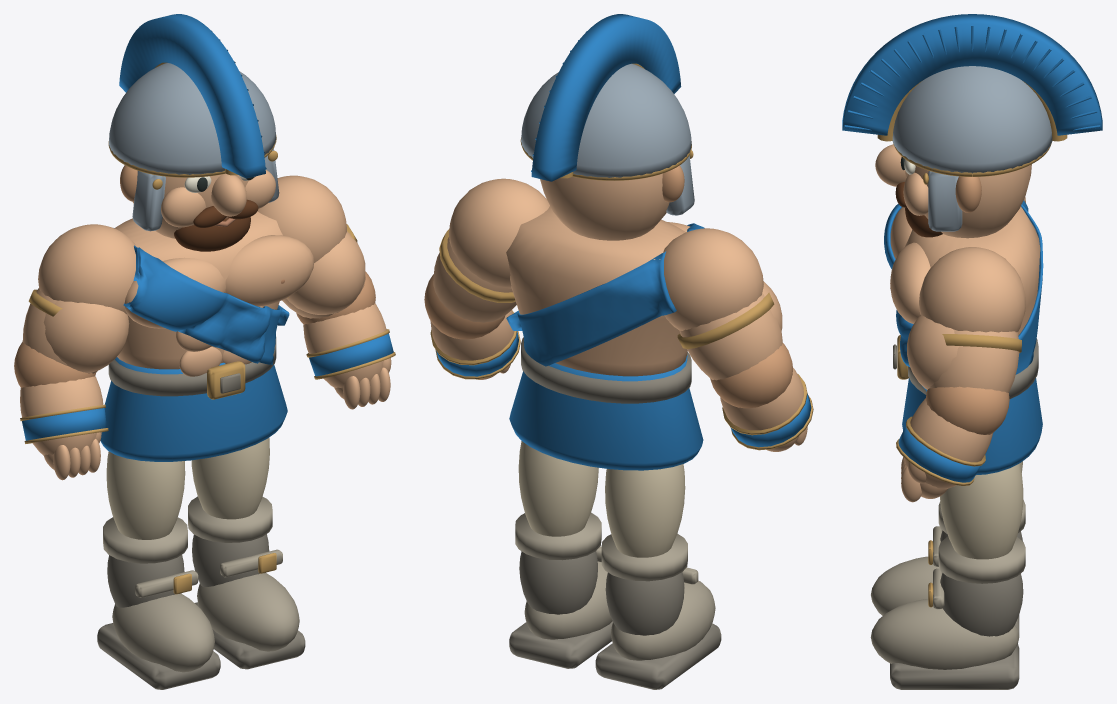
The model's file is krachtpatser_senior.glb.
3 renders of one model, left to right at view 1: azimuth 30°, elevation 25°; view 2: azimuth 150°, elevation 25°; view 3: azimuth 270°, elevation 25°, orthographic. The views are drawn at different scales.
Visible parts, largest first — view 1: TEAM_Felt_kilt.002, Helmet_dome.002, Full_mohawk, TEAM_Broad_felt_sash.002, Right_Deltoid.002, Felt_boot_toe.004, Felt_boot_toe.005, Trouser_leg.004, Bare_torso.002, Pectoral.005, Right_Biceps.002, Trouser_leg.005 (+27 smaller); view 2: Bare_torso.002, TEAM_Felt_kilt.002, Helmet_dome.002, Full_mohawk, TEAM_Broad_felt_sash.002, Right_Deltoid.002, Left_Deltoid.002, Head.002, Trouser_leg.004, Trouser_leg.005, Right_UpperArm.002, Felt_waistband.002 (+19 smaller); view 3: Full_mohawk, Helmet_dome.002, Left_Deltoid.002, Felt_boot_toe.005, Trouser_leg.005, Bare_torso.002, Felt_boot_shaft.005, TEAM_Felt_kilt.002, Felt_boot_sole.005, Head.002, Left_UpperArm.002, Left_Elbow.002 (+20 smaller).
Part boxes in pixels (x1=…): TEAM_Felt_kilt.002: x1=100, y1=357, x2=287, y2=461; Helmet_dome.002: x1=109, y1=63, x2=276, y2=174; Full_mohawk: x1=119, y1=14, x2=265, y2=178; TEAM_Broad_felt_sash.002: x1=114, y1=228, x2=289, y2=365; Right_Deltoid.002: x1=38, y1=224, x2=135, y2=317; Felt_boot_toe.004: x1=112, y1=593, x2=214, y2=672; Felt_boot_toe.005: x1=197, y1=573, x2=299, y2=651; Trouser_leg.004: x1=106, y1=451, x2=185, y2=539; Bare_torso.002: x1=115, y1=211, x2=282, y2=369; Pectoral.005: x1=225, y1=235, x2=314, y2=306; Right_Biceps.002: x1=43, y1=300, x2=129, y2=372; Trouser_leg.005: x1=191, y1=438, x2=269, y2=519; Bare_torso.002: x1=506, y1=206, x2=687, y2=376; TEAM_Felt_kilt.002: x1=509, y1=355, x2=703, y2=470; Helmet_dome.002: x1=521, y1=63, x2=691, y2=177; Full_mohawk: x1=531, y1=14, x2=681, y2=181; TEAM_Broad_felt_sash.002: x1=506, y1=223, x2=704, y2=366; Right_Deltoid.002: x1=663, y1=228, x2=763, y2=330; Left_Deltoid.002: x1=449, y1=178, x2=549, y2=288; Head.002: x1=540, y1=173, x2=669, y2=240; Trouser_leg.004: x1=605, y1=464, x2=685, y2=557; Trouser_leg.005: x1=518, y1=441, x2=598, y2=536; Right_UpperArm.002: x1=679, y1=293, x2=782, y2=380; Felt_waistband.002: x1=521, y1=337, x2=691, y2=403; Full_mohawk: x1=842, y1=14, x2=1102, y2=135; Helmet_dome.002: x1=892, y1=66, x2=1052, y2=173; Left_Deltoid.002: x1=919, y1=247, x2=1025, y2=332; Felt_boot_toe.005: x1=870, y1=599, x2=1019, y2=669; Trouser_leg.005: x1=940, y1=463, x2=1023, y2=559; Bare_torso.002: x1=905, y1=206, x2=1040, y2=335; Felt_boot_shaft.005: x1=940, y1=573, x2=1023, y2=636; TEAM_Felt_kilt.002: x1=902, y1=378, x2=1042, y2=474; Felt_boot_sole.005: x1=890, y1=644, x2=1019, y2=689; Head.002: x1=905, y1=164, x2=1031, y2=238; Left_UpperArm.002: x1=930, y1=329, x2=1019, y2=392; Left_Elbow.002: x1=925, y1=386, x2=1009, y2=434.
Bounding box in the file's own units: 1.32 × 2.17 × 0.806.
